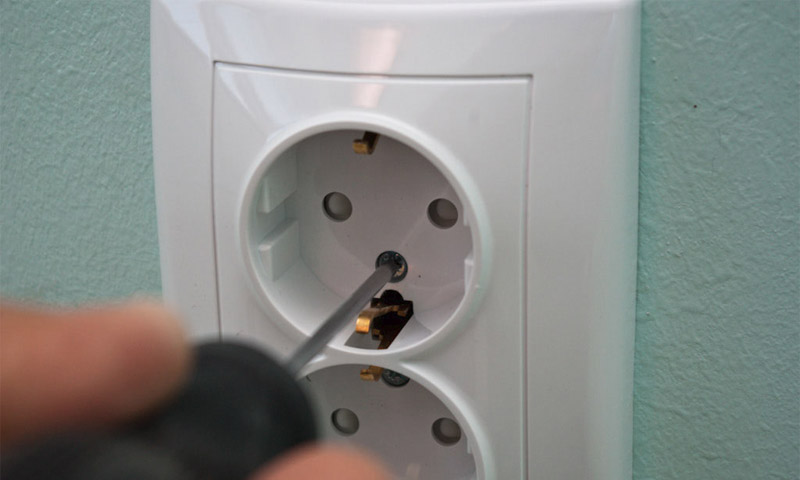raccoon: (238, 119, 482, 359)
